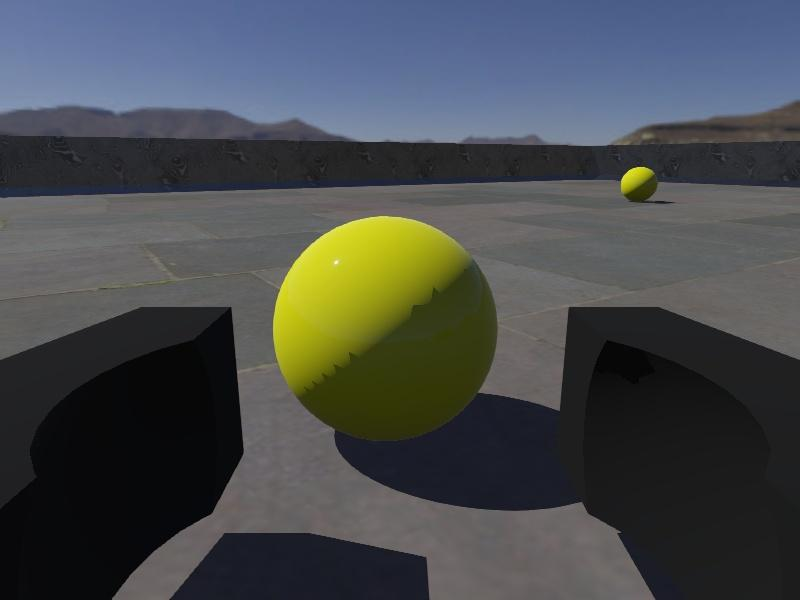yellow ball: (272, 215, 498, 443)
